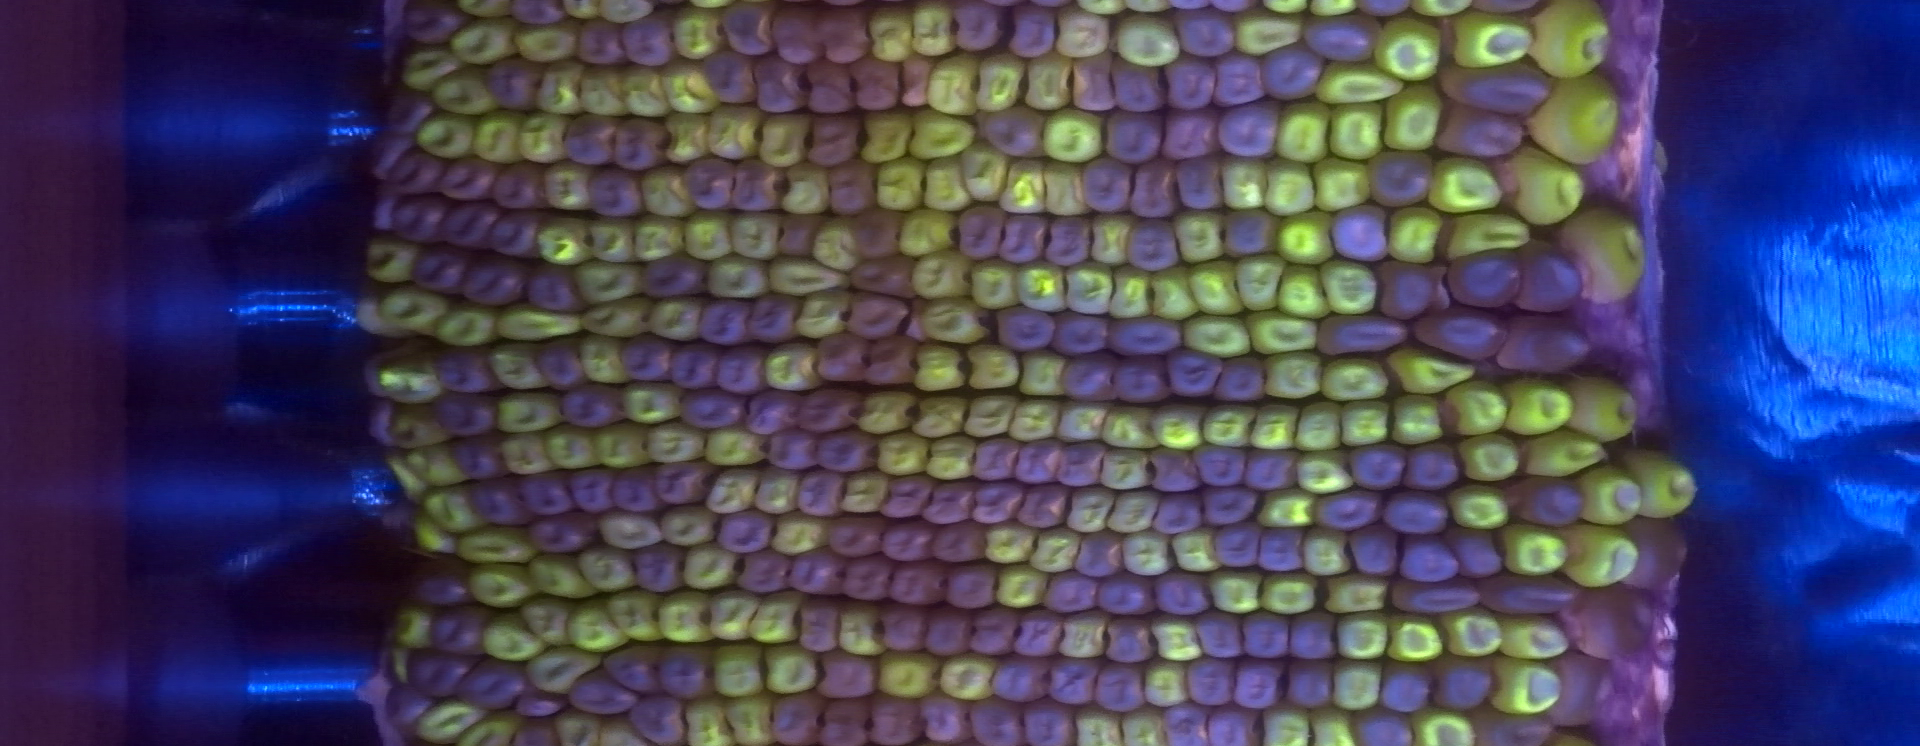fluorescent: (1536, 70, 1619, 163), (1562, 207, 1643, 300), (1527, 1, 1609, 77), (1625, 448, 1696, 519), (1509, 153, 1582, 217), (1570, 377, 1637, 441), (1390, 345, 1477, 394), (1455, 12, 1529, 66), (1433, 156, 1500, 214), (1564, 533, 1637, 586), (1378, 20, 1442, 78), (1524, 431, 1605, 478), (1389, 88, 1446, 153), (1496, 658, 1559, 717), (1314, 60, 1402, 100), (1444, 214, 1534, 254), (1449, 381, 1506, 440), (1500, 523, 1564, 576), (929, 53, 978, 120), (1389, 206, 1441, 267), (1322, 260, 1378, 316), (1502, 385, 1567, 432), (1116, 13, 1176, 65), (1176, 209, 1229, 266), (1584, 470, 1641, 524), (576, 258, 637, 307), (910, 110, 975, 156), (1280, 100, 1329, 160), (1315, 158, 1367, 213), (1325, 355, 1387, 401), (497, 305, 579, 339), (1333, 107, 1385, 160), (380, 352, 436, 401), (1280, 214, 1338, 261), (1043, 116, 1104, 160), (456, 523, 527, 561), (1000, 156, 1046, 214), (1262, 160, 1311, 214), (1057, 396, 1112, 443), (432, 301, 493, 344), (1267, 350, 1320, 399), (662, 64, 716, 111), (538, 216, 591, 263), (1460, 434, 1515, 480), (448, 23, 516, 61), (1185, 312, 1247, 354), (924, 295, 982, 339), (1505, 617, 1562, 661), (1236, 12, 1304, 49), (711, 109, 760, 160), (1221, 156, 1269, 208), (784, 164, 830, 218), (1445, 615, 1505, 657), (667, 10, 722, 55), (380, 284, 442, 323), (1251, 314, 1314, 353), (405, 447, 464, 489), (1026, 56, 1071, 110), (869, 7, 913, 62), (912, 255, 972, 295), (468, 565, 528, 605), (583, 296, 647, 334), (620, 67, 669, 116), (762, 119, 811, 168), (611, 597, 660, 646), (533, 64, 583, 111), (917, 342, 965, 392), (427, 484, 478, 532), (902, 209, 960, 251), (485, 614, 538, 659), (496, 394, 558, 432), (623, 383, 686, 421), (767, 644, 814, 693), (1409, 708, 1473, 745), (1298, 447, 1349, 492), (771, 258, 841, 292), (977, 59, 1019, 114), (591, 425, 647, 467), (579, 69, 626, 118), (473, 115, 518, 165), (681, 698, 731, 744), (754, 593, 797, 646), (915, 1, 954, 59), (880, 655, 938, 695), (707, 258, 765, 296), (702, 428, 760, 465), (1190, 265, 1238, 311), (664, 601, 711, 648), (718, 647, 764, 695), (541, 160, 587, 209), (876, 160, 921, 209), (814, 220, 863, 266), (585, 218, 634, 263), (860, 387, 909, 432), (964, 392, 1013, 437), (1234, 258, 1278, 309), (765, 343, 816, 387), (542, 424, 593, 468), (639, 212, 682, 263), (1108, 266, 1149, 320), (523, 113, 568, 160), (1395, 399, 1442, 445), (801, 292, 850, 336), (1106, 405, 1155, 450), (722, 699, 771, 744), (965, 147, 1007, 198), (1044, 162, 1081, 219), (365, 232, 409, 279), (866, 113, 909, 162), (582, 338, 624, 387), (1210, 576, 1260, 617), (916, 398, 967, 439), (1280, 265, 1319, 317), (1262, 572, 1315, 611), (1304, 528, 1349, 573), (1018, 266, 1064, 310), (929, 435, 973, 481), (493, 342, 536, 390), (1393, 619, 1441, 661), (433, 77, 495, 110), (1446, 488, 1507, 521), (1021, 347, 1060, 398), (404, 49, 460, 85), (971, 261, 1015, 306), (971, 345, 1016, 390), (1161, 404, 1205, 450), (1253, 405, 1298, 450), (880, 431, 924, 477), (1202, 407, 1250, 448), (1333, 668, 1381, 709), (384, 453, 425, 502), (1332, 577, 1386, 614), (418, 122, 475, 157), (650, 423, 700, 462), (1152, 269, 1195, 315), (665, 114, 711, 156), (926, 157, 962, 209), (683, 543, 731, 583), (940, 659, 988, 699), (1341, 403, 1390, 442), (642, 167, 684, 211), (1300, 403, 1342, 448), (731, 213, 778, 254), (1069, 267, 1109, 314), (567, 612, 620, 648), (1340, 619, 1382, 661), (775, 514, 823, 552), (1155, 622, 1202, 660), (533, 561, 583, 597), (497, 439, 550, 472), (683, 218, 729, 256), (410, 513, 456, 551), (845, 610, 882, 657), (519, 29, 574, 60), (1262, 490, 1311, 524), (1103, 447, 1149, 484), (1078, 707, 1123, 744), (1011, 401, 1054, 439), (416, 706, 476, 733), (984, 521, 1026, 559), (392, 410, 440, 443), (1176, 533, 1218, 570), (1092, 216, 1128, 260), (1000, 570, 1041, 608), (396, 608, 429, 650), (1119, 712, 1163, 744), (650, 301, 696, 332), (715, 598, 748, 639), (1150, 668, 1185, 706), (1314, 710, 1353, 744), (1040, 530, 1067, 570), (457, 1, 517, 17), (1411, 1, 1473, 16), (847, 477, 876, 507), (1308, 1, 1354, 20), (562, 1, 599, 20), (1076, 1, 1127, 13), (1262, 1, 1304, 13), (691, 1, 736, 9)
nonfluorescent: (1431, 61, 1555, 120), (1571, 590, 1656, 661), (1431, 102, 1526, 162), (1501, 318, 1591, 379), (1445, 244, 1521, 311), (1513, 247, 1587, 315), (1409, 309, 1512, 356), (1262, 38, 1332, 104), (1622, 514, 1689, 584), (1313, 314, 1412, 359), (1550, 653, 1607, 726), (1375, 258, 1438, 325), (1300, 9, 1378, 60), (1364, 146, 1431, 205), (864, 332, 924, 397), (816, 1, 874, 67), (1327, 205, 1393, 263), (1509, 475, 1587, 524), (1477, 575, 1571, 615), (1210, 47, 1267, 113), (1218, 96, 1278, 157), (1389, 576, 1479, 616), (460, 657, 527, 712), (613, 111, 671, 174), (636, 251, 710, 299), (771, 686, 830, 746), (1227, 657, 1291, 710), (1183, 648, 1240, 707), (430, 350, 498, 399), (804, 109, 862, 167), (1158, 109, 1218, 164), (403, 559, 470, 608), (888, 556, 950, 609), (797, 387, 861, 439), (1124, 159, 1174, 224), (612, 333, 677, 383), (1309, 486, 1385, 529), (1164, 344, 1221, 402), (1431, 657, 1490, 712), (731, 156, 785, 216), (1122, 219, 1182, 273), (1378, 661, 1438, 715), (1163, 56, 1221, 111), (568, 671, 638, 717), (1284, 609, 1344, 661), (1107, 316, 1180, 359), (1015, 695, 1076, 746), (680, 390, 747, 436), (948, 1, 1004, 56), (680, 153, 733, 211), (427, 603, 485, 657), (444, 434, 509, 481), (1069, 56, 1122, 115), (531, 332, 583, 392), (847, 290, 909, 341), (1095, 570, 1156, 620), (853, 51, 902, 114), (490, 56, 544, 113), (816, 331, 868, 388), (984, 104, 1043, 156), (997, 304, 1056, 355), (873, 603, 932, 654), (1007, 1, 1056, 62), (1177, 10, 1238, 59), (465, 258, 527, 307), (1406, 443, 1467, 492), (816, 426, 877, 475), (626, 697, 687, 746), (1386, 491, 1452, 537), (786, 549, 849, 597), (557, 383, 624, 428), (1062, 353, 1118, 405), (709, 50, 760, 108), (414, 244, 465, 301), (1078, 156, 1127, 216), (719, 2, 771, 58), (564, 111, 617, 167), (1116, 356, 1171, 409), (868, 691, 921, 746), (958, 205, 1009, 261), (711, 345, 768, 397), (1344, 523, 1401, 575), (1096, 661, 1147, 718), (763, 429, 827, 474), (992, 657, 1051, 706), (1176, 153, 1223, 213), (1397, 537, 1462, 581), (822, 512, 883, 559), (590, 167, 644, 219), (1108, 109, 1161, 163), (662, 646, 715, 699), (621, 15, 672, 70), (847, 254, 913, 296), (744, 386, 800, 437), (1223, 209, 1280, 260), (1015, 606, 1065, 663), (402, 1, 467, 44), (632, 544, 684, 597), (1116, 58, 1167, 111), (443, 198, 498, 249), (607, 641, 662, 691), (879, 472, 936, 521), (437, 396, 501, 439), (998, 212, 1051, 263), (525, 467, 577, 519), (489, 212, 542, 262), (1215, 356, 1269, 407), (612, 461, 662, 514), (1049, 657, 1100, 710), (851, 209, 906, 258), (934, 518, 989, 567), (924, 691, 973, 746), (1156, 571, 1212, 619), (771, 9, 817, 67), (525, 261, 578, 311), (758, 58, 806, 113), (440, 157, 497, 202), (846, 556, 898, 606), (975, 695, 1025, 746), (970, 481, 1022, 530), (677, 333, 718, 397), (1247, 445, 1302, 491), (736, 549, 791, 595), (1351, 445, 1407, 490), (715, 510, 778, 550), (1474, 710, 1545, 746), (574, 16, 626, 65), (568, 465, 620, 514), (820, 652, 879, 695), (1047, 217, 1095, 269), (969, 435, 1021, 483), (1450, 527, 1502, 575), (808, 64, 855, 118), (474, 484, 534, 526), (654, 461, 709, 506), (1202, 485, 1258, 530), (530, 512, 598, 549), (829, 158, 872, 216), (1044, 570, 1095, 619), (497, 159, 545, 211), (947, 562, 998, 610), (926, 603, 973, 654), (1284, 660, 1336, 708), (823, 695, 871, 746), (1078, 526, 1124, 578), (792, 600, 839, 653), (696, 301, 749, 347), (879, 521, 936, 563), (1240, 612, 1291, 660), (1051, 316, 1108, 358), (1103, 620, 1155, 666), (384, 687, 431, 739), (1015, 481, 1069, 526), (384, 85, 433, 132), (749, 292, 797, 341), (1198, 609, 1247, 657), (1150, 446, 1200, 492), (1020, 437, 1067, 488), (1209, 521, 1262, 563), (973, 606, 1015, 661), (396, 196, 444, 243), (1163, 699, 1212, 746), (1195, 447, 1248, 490), (1149, 490, 1202, 532), (396, 149, 446, 194), (1349, 709, 1409, 746), (1209, 703, 1260, 746), (797, 472, 845, 517), (1056, 443, 1104, 488), (1256, 532, 1307, 575), (775, 209, 818, 258), (411, 657, 467, 695), (929, 479, 975, 524), (369, 132, 413, 179), (902, 51, 937, 110), (517, 1, 569, 29), (373, 184, 400, 232), (516, 693, 567, 715), (518, 719, 560, 746)
